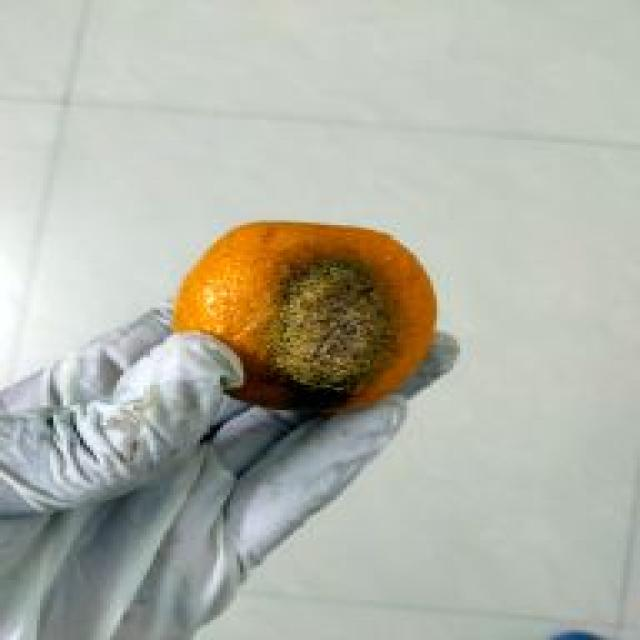Bad_Orange: (173, 225, 430, 409)
